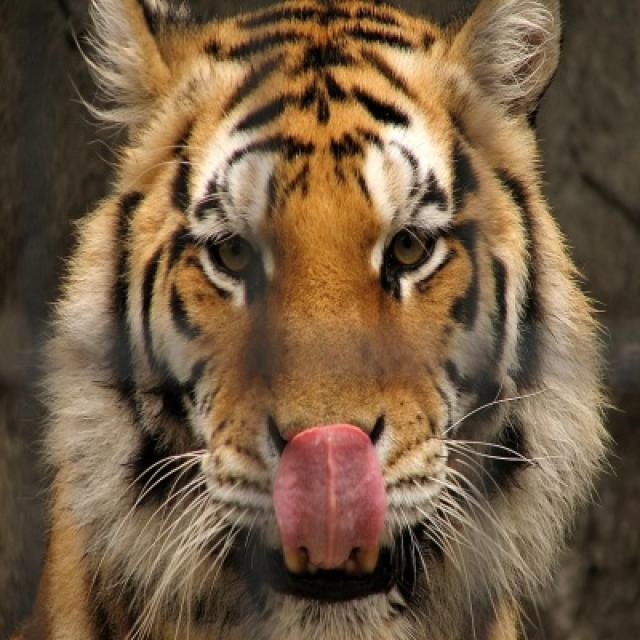Tiger: (32, 0, 608, 630)
